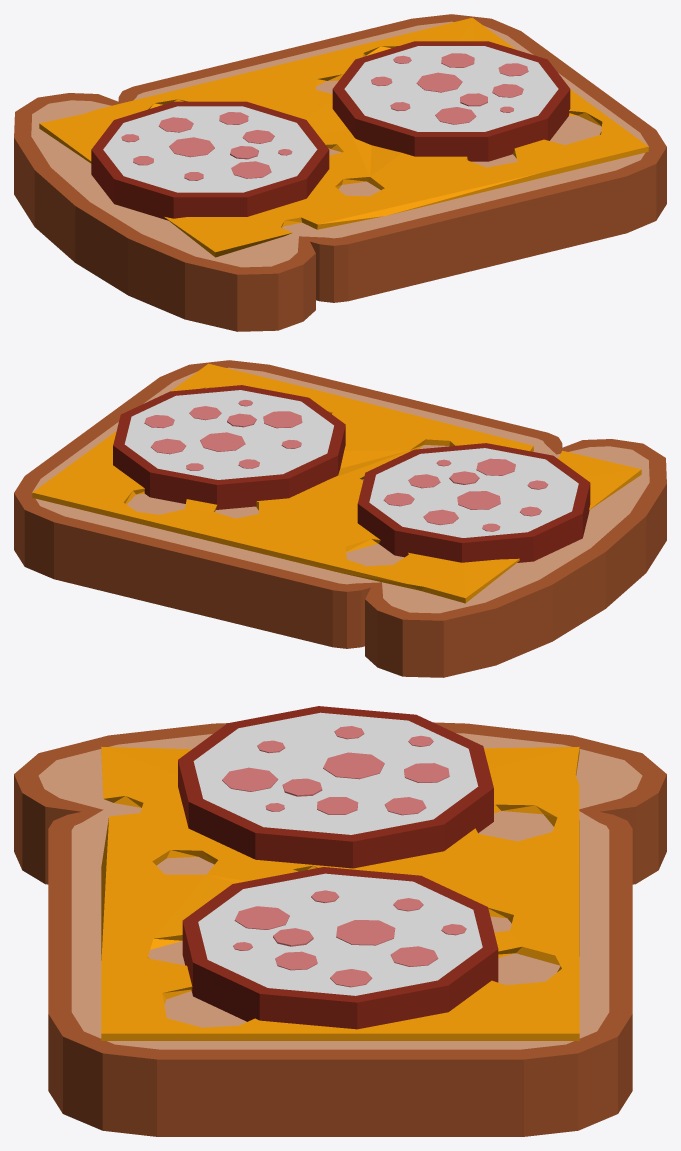
Rendered from Sandwich.fbx.
The picture shows the model from 3 angles, top to bottom: view 1: azimuth 30°, elevation 25°; view 2: azimuth 150°, elevation 25°; view 3: azimuth 270°, elevation 25°; orthographic projection. The views are drawn at different scales.
Visible parts, largest first — view 1: Bread, Cheese, SausagePiece.001, SausagePiece; view 2: Bread, Cheese, SausagePiece.001, SausagePiece; view 3: Bread, Cheese, SausagePiece, SausagePiece.001.
Boxes of the visible parts, left/top/right/bottom form: Bread: left=14, top=14, right=666, bottom=331; Cheese: left=39, top=17, right=648, bottom=257; SausagePiece.001: left=91, top=101, right=329, bottom=220; SausagePiece: left=332, top=41, right=570, bottom=161; Bread: left=14, top=360, right=666, bottom=677; Cheese: left=32, top=363, right=641, bottom=603; SausagePiece.001: left=357, top=443, right=590, bottom=562; SausagePiece: left=113, top=385, right=345, bottom=509; Bread: left=14, top=722, right=666, bottom=1136; Cheese: left=101, top=746, right=579, bottom=1040; SausagePiece: left=182, top=867, right=498, bottom=1029; SausagePiece.001: left=178, top=706, right=493, bottom=868.
Bounding box in the file's own units: 316 × 48.96 × 257.
